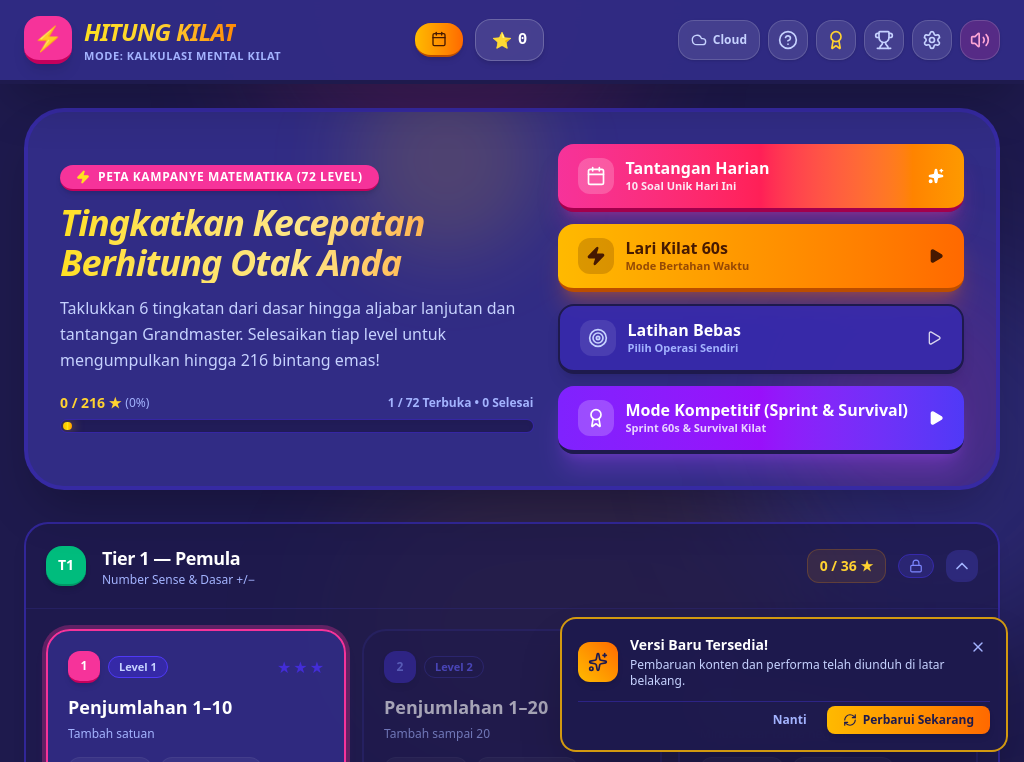
Test: App PWA Integration › allows dismissing the update notification toast
Expected: the text "Versi Baru Tersedia!" is shown, [630, 635, 768, 655]
# Click "Nanti" to dismiss
What coordinates should you click on to do the following:
click the button "Nanti"
I would click on:
 (790, 720)
Its box is [761, 706, 819, 734].
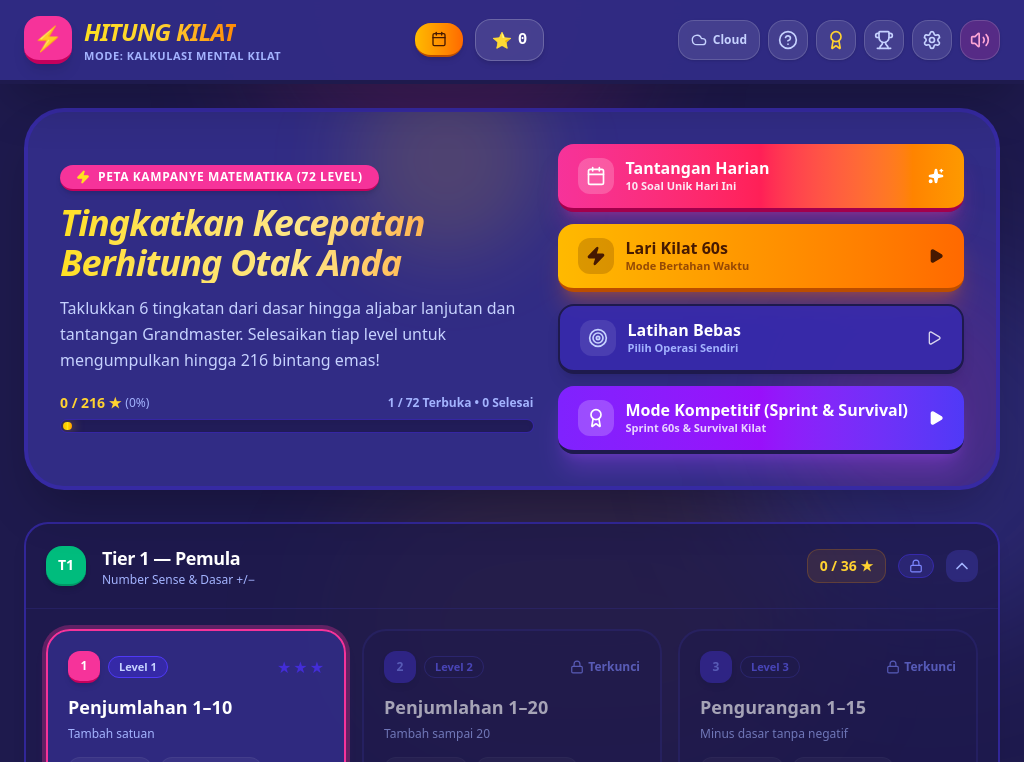
Expected: the text "Versi Baru Tersedia!" is gone
